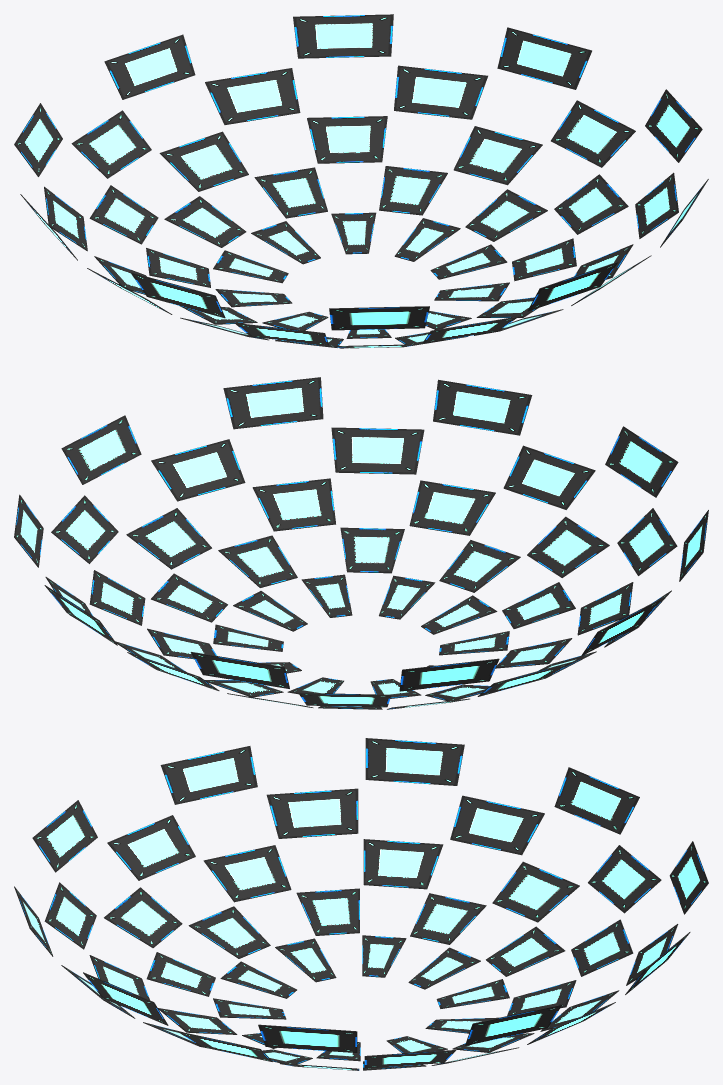
File: half_arena.fbx
3 views of the same model, one above another, from view 1: azimuth 30°, elevation 25°; view 2: azimuth 150°, elevation 25°; view 3: azimuth 270°, elevation 25° (orthographic).
Visible parts, largest first — view 1: polySurface15; view 2: polySurface15; view 3: polySurface15.
Boxes of the visible parts, x1=… form: polySurface15: x1=14, y1=14, x2=708, y2=348; polySurface15: x1=14, y1=377, x2=708, y2=709; polySurface15: x1=14, y1=738, x2=708, y2=1070.
Bounding box in the file's own units: 4.22 × 0.8381 × 4.22.
